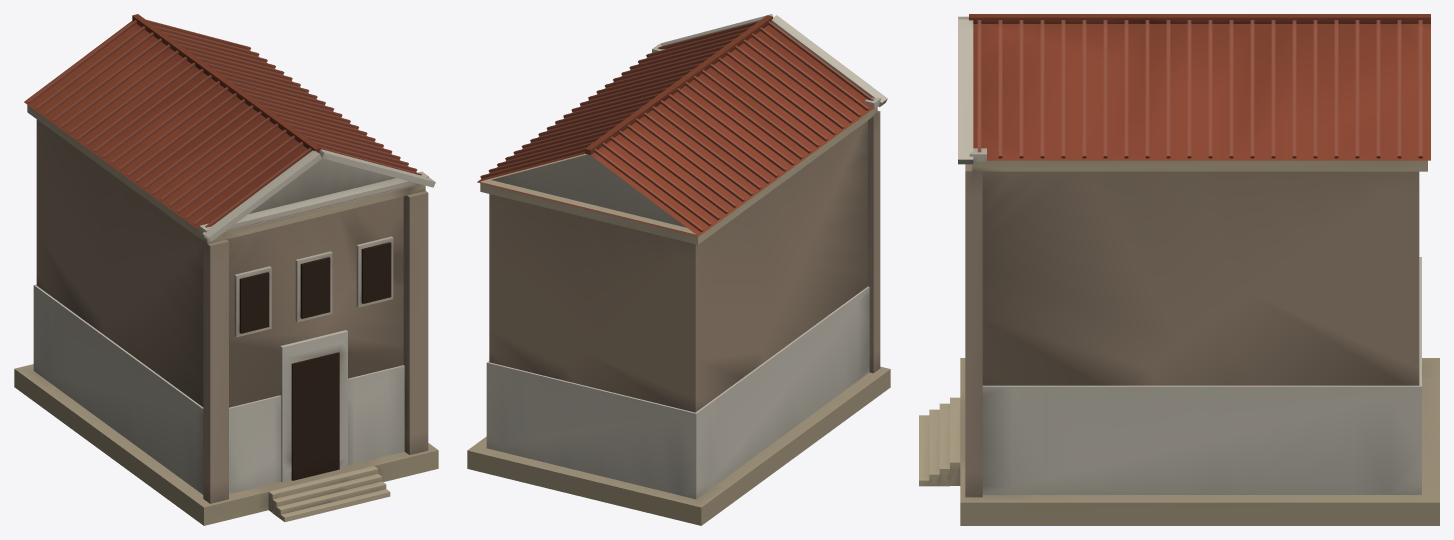
Rendered from curia-hostilia.glb.
The picture shows the model from 3 angles, left to right: view 1: azimuth 30°, elevation 25°; view 2: azimuth 150°, elevation 25°; view 3: azimuth 270°, elevation 25°; orthographic projection. The views are drawn at different scales.
Parts seen in each view (by area): view 1: p1_walls, p2_roof, p0_podium; view 2: p1_walls, p2_roof, p0_podium; view 3: p1_walls, p2_roof, p0_podium.
Part boxes in pixels (left/top/right/bottom): p1_walls: left=27, top=105, right=428, bottom=503; p2_roof: left=24, top=14, right=435, bottom=241; p0_podium: left=14, top=364, right=438, bottom=525; p1_walls: left=480, top=107, right=880, bottom=499; p2_roof: left=477, top=14, right=887, bottom=236; p0_podium: left=467, top=366, right=890, bottom=525; p1_walls: left=965, top=160, right=1427, bottom=497; p2_roof: left=958, top=14, right=1430, bottom=164; p0_podium: left=919, top=358, right=1439, bottom=525.
Bounding box in the file's own units: 20 × 28.21 × 30.4.
